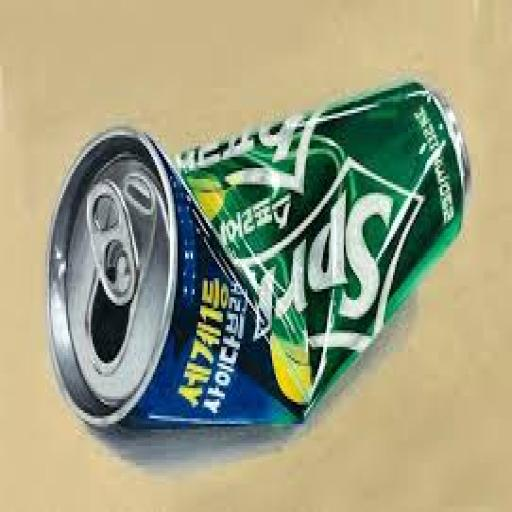can: (47, 78, 473, 427)
